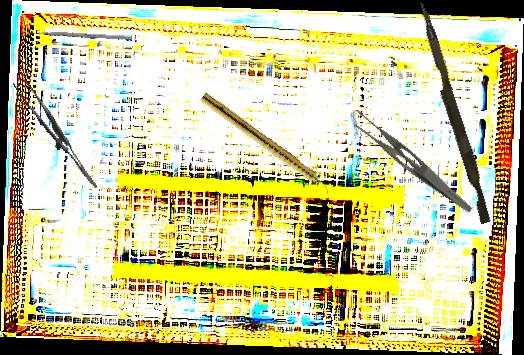Dressing Forceps: (344, 106, 483, 215)
Handpiece: (197, 91, 335, 197)
Pusher: (410, 1, 497, 225), (21, 30, 133, 40)
Tissue Forceps: (12, 70, 98, 200)
